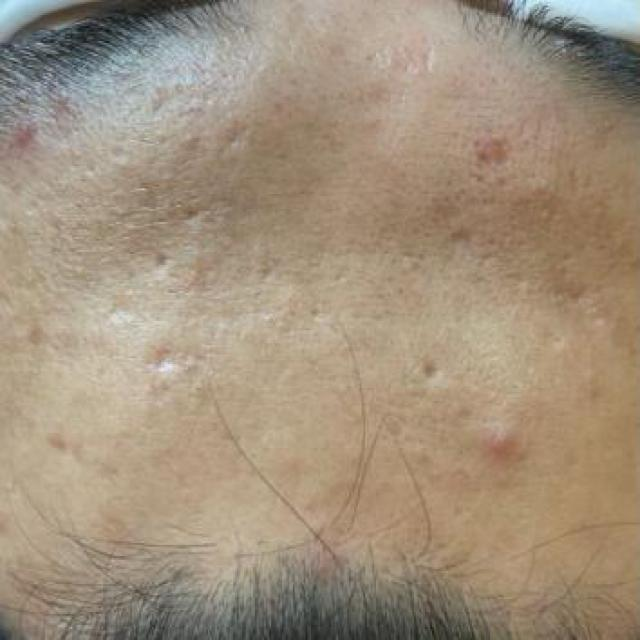8: (477, 412, 535, 487)
blackheads: (399, 342, 466, 428), (432, 218, 488, 308), (145, 332, 197, 411), (135, 242, 199, 286)
